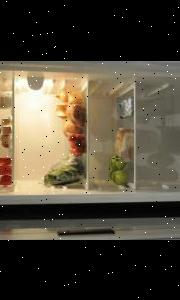Cebolla: (57, 88, 68, 100), (56, 104, 67, 115)
Huevos: (1, 134, 12, 143), (1, 125, 11, 134), (1, 118, 11, 126)
Manzana: (112, 168, 127, 184), (110, 156, 122, 168)
Tomate: (0, 165, 11, 176), (0, 174, 11, 184), (0, 157, 12, 165)
